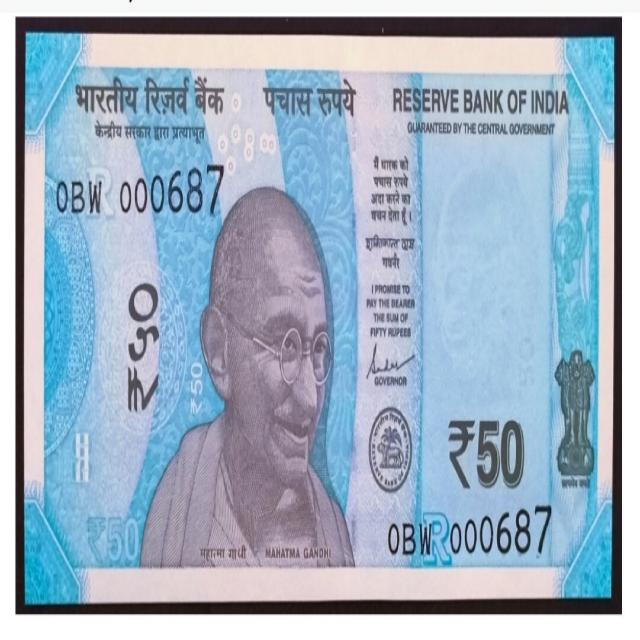50IndianRupees: (26, 33, 610, 596), (253, 34, 614, 602)
